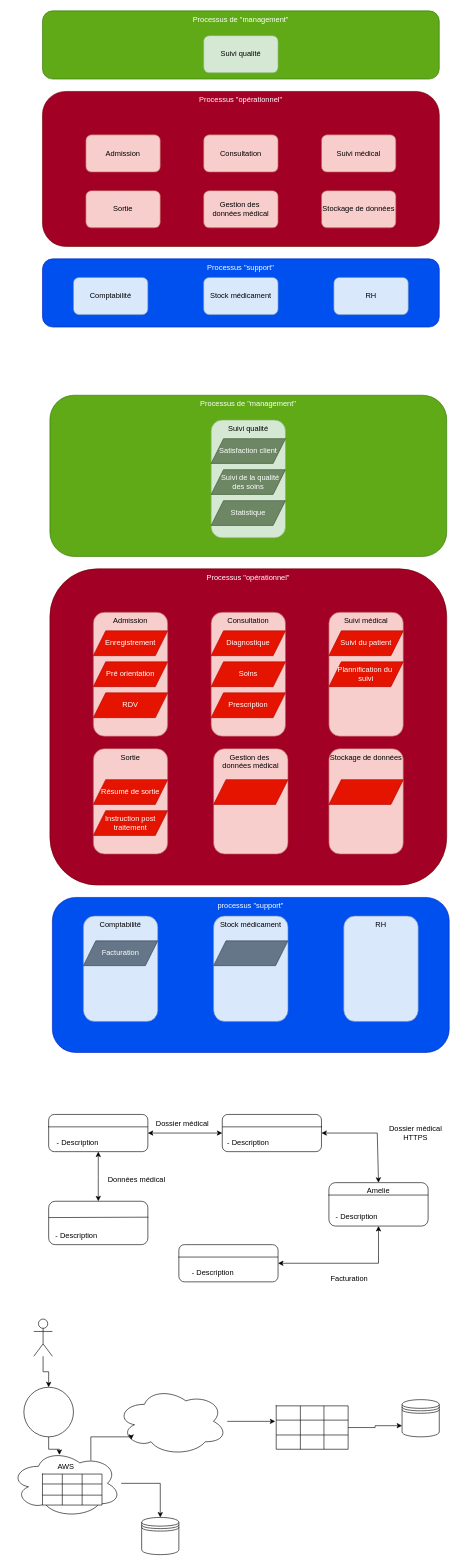
The diagram is 460 pixels wide and 1566 high, and some of its shapes have lost their labels. The shapes that lost their labels are listed below. From the top down, each one's box as (x1, y1, x2, y2) in pixels, then its label:
(213, 779, 288, 804): MAJ historique médical
(328, 779, 403, 804): Sécuriser
(213, 940, 288, 966): Suivi des stocks
(48, 1114, 148, 1152): Meditech
(222, 1114, 321, 1152): Epic cerner
(48, 1201, 148, 1245): MyChart
(178, 1244, 278, 1282): Sage
(23, 1387, 73, 1437): OKTA
(116, 1387, 227, 1455): AZURE app
